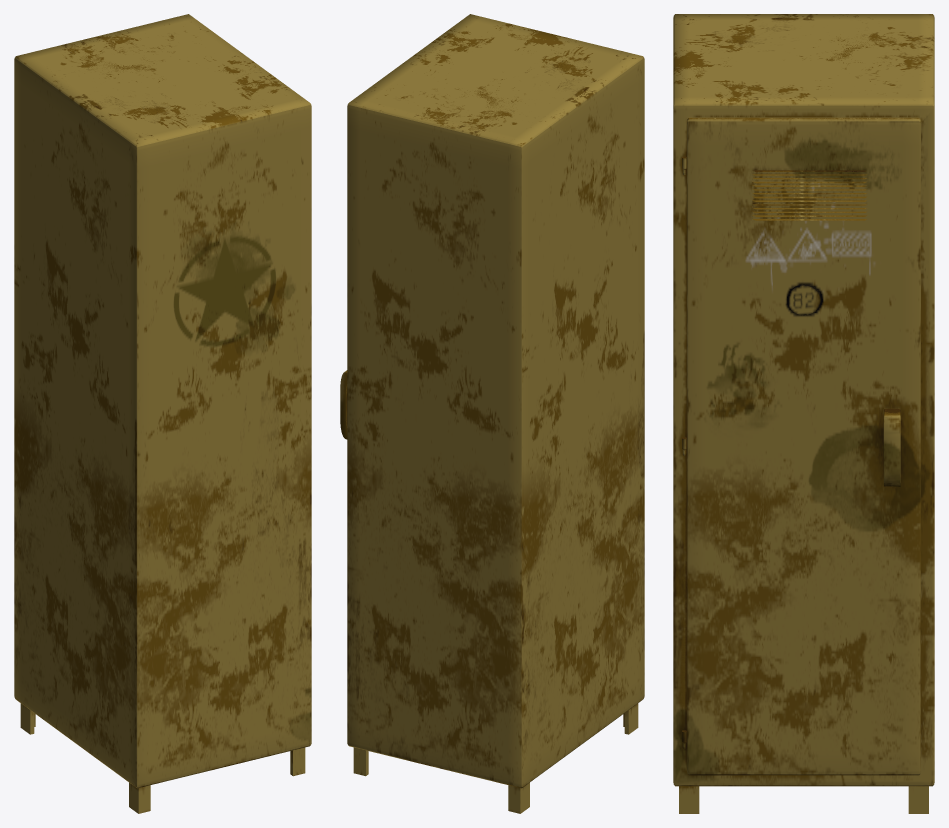
Rendered from locker with door aparte v2.fbx.
3 views of the same model, side by side, from view 1: azimuth 30°, elevation 25°; view 2: azimuth 150°, elevation 25°; view 3: azimuth 270°, elevation 25° (orthographic). The views are drawn at different scales.
Visible parts, largest first — view 1: locker; view 2: locker; view 3: door, locker, insidelocker.
Boxes of the visible parts, <box> form: locker: <box>14,14,311,813</box>; locker: <box>347,14,644,813</box>; door: <box>682,119,920,775</box>; locker: <box>673,14,934,813</box>; insidelocker: <box>687,117,920,527</box>.
Bounding box in the file's own units: 162 × 524 × 174.
